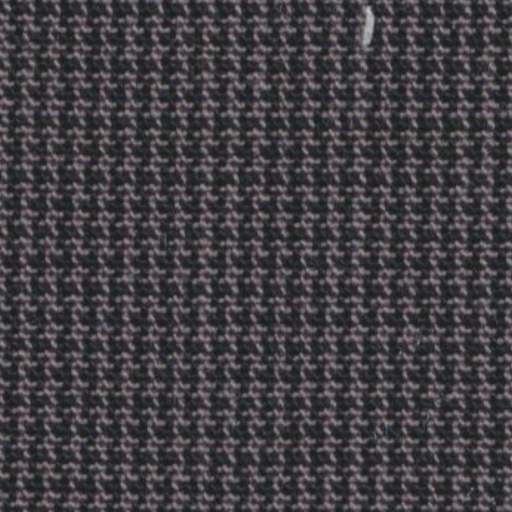DuanSha: (348, 6, 392, 50)
